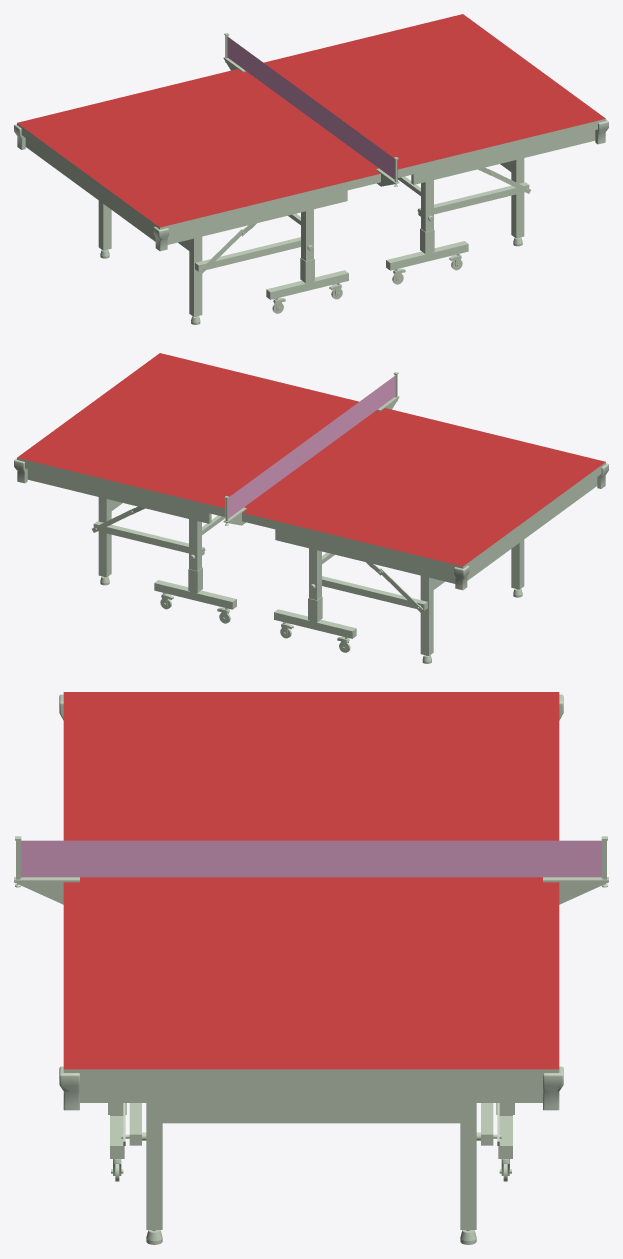
The model's file is pingpong.fbx.
3 renders of one model, top to bottom at view 1: azimuth 30°, elevation 25°; view 2: azimuth 150°, elevation 25°; view 3: azimuth 270°, elevation 25°, orthographic. The views are drawn at different scales.
Parts seen in each view (by area): view 1: hammermesh-11.001; view 2: hammermesh-11.001; view 3: hammermesh-11.001.
Boxes of the visible parts, x1,y1,x2,y2 form: hammermesh-11.001: [14, 14, 608, 324]; hammermesh-11.001: [14, 353, 608, 663]; hammermesh-11.001: [14, 692, 608, 1244].
Bounding box in the file's own units: 1090 × 358 × 720.
